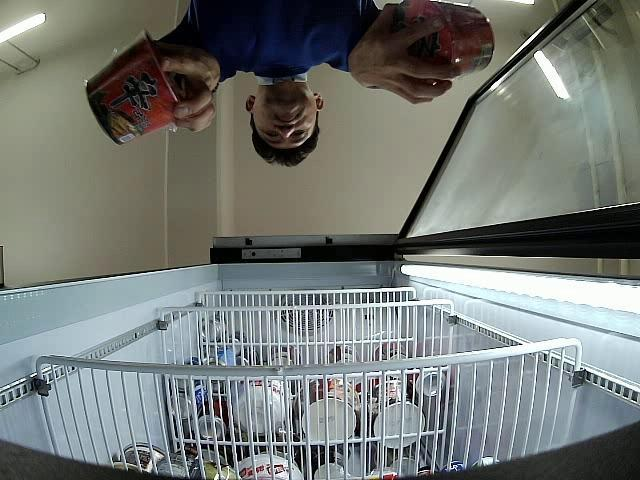01_ShinRamen_L: (84, 28, 182, 145), (401, 0, 495, 80)
